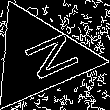N_SW: (5, 28, 74, 87)
